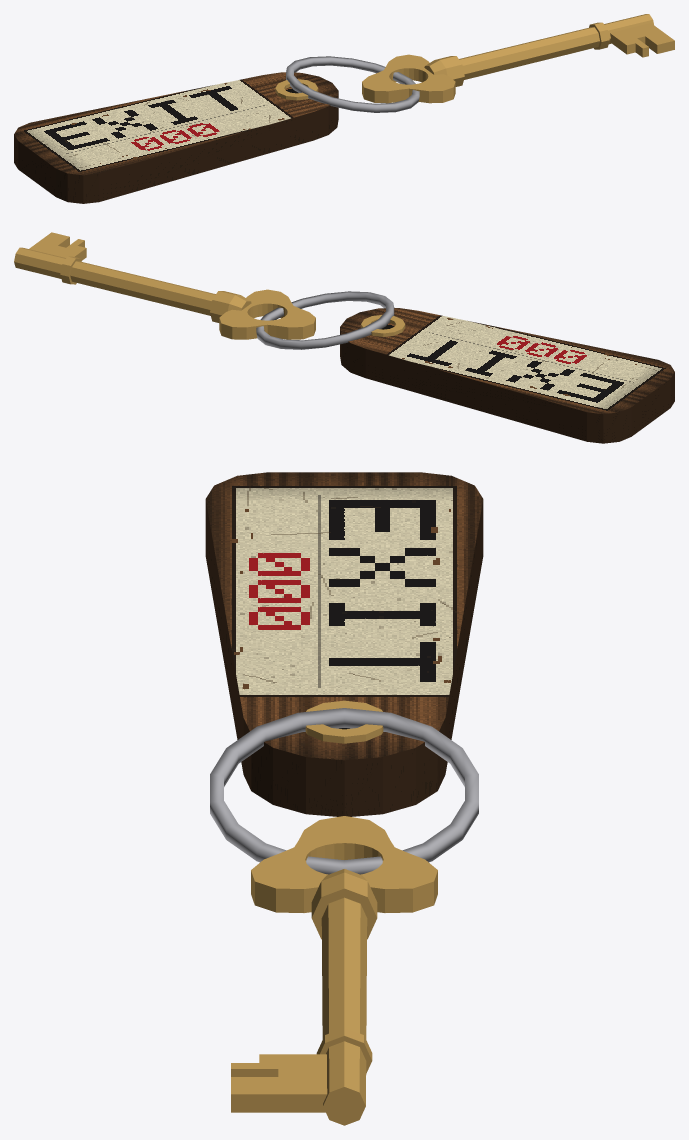
The model's file is key.glb.
The picture shows the model from 3 angles, top to bottom: view 1: azimuth 30°, elevation 25°; view 2: azimuth 150°, elevation 25°; view 3: azimuth 270°, elevation 25°; orthographic projection. The views are drawn at different scales.
Visible parts, largest first — view 1: key; view 2: key; view 3: key.
Part boxes in pixels (x1,y1,x2,y2): key: (14,14,674,203); key: (14,232,674,443); key: (205,472,483,1125).
Size of the model in its own units: 0.224 by 0.0145 by 0.044.
3 materials, 1 textured.
